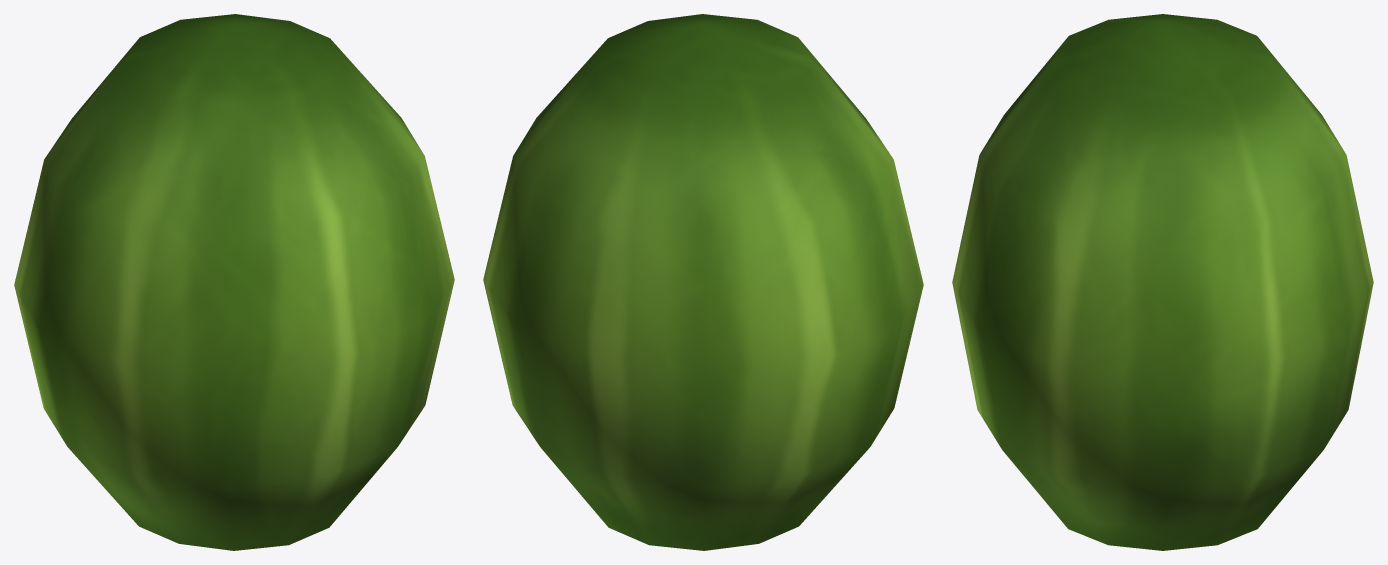
Rendered from melonslice.fbx.
3 renders of one model, left to right at view 1: azimuth 30°, elevation 25°; view 2: azimuth 150°, elevation 25°; view 3: azimuth 270°, elevation 25°, orthographic.
Parts seen in each view (by area): view 1: Watermelon; view 2: Watermelon; view 3: Watermelon.
Boxes of the visible parts, left/top/right/bottom form: Watermelon: left=14, top=14, right=454, bottom=550; Watermelon: left=483, top=14, right=923, bottom=550; Watermelon: left=952, top=14, right=1373, bottom=550.
Size of the model in its own units: 112 by 143 by 105.
